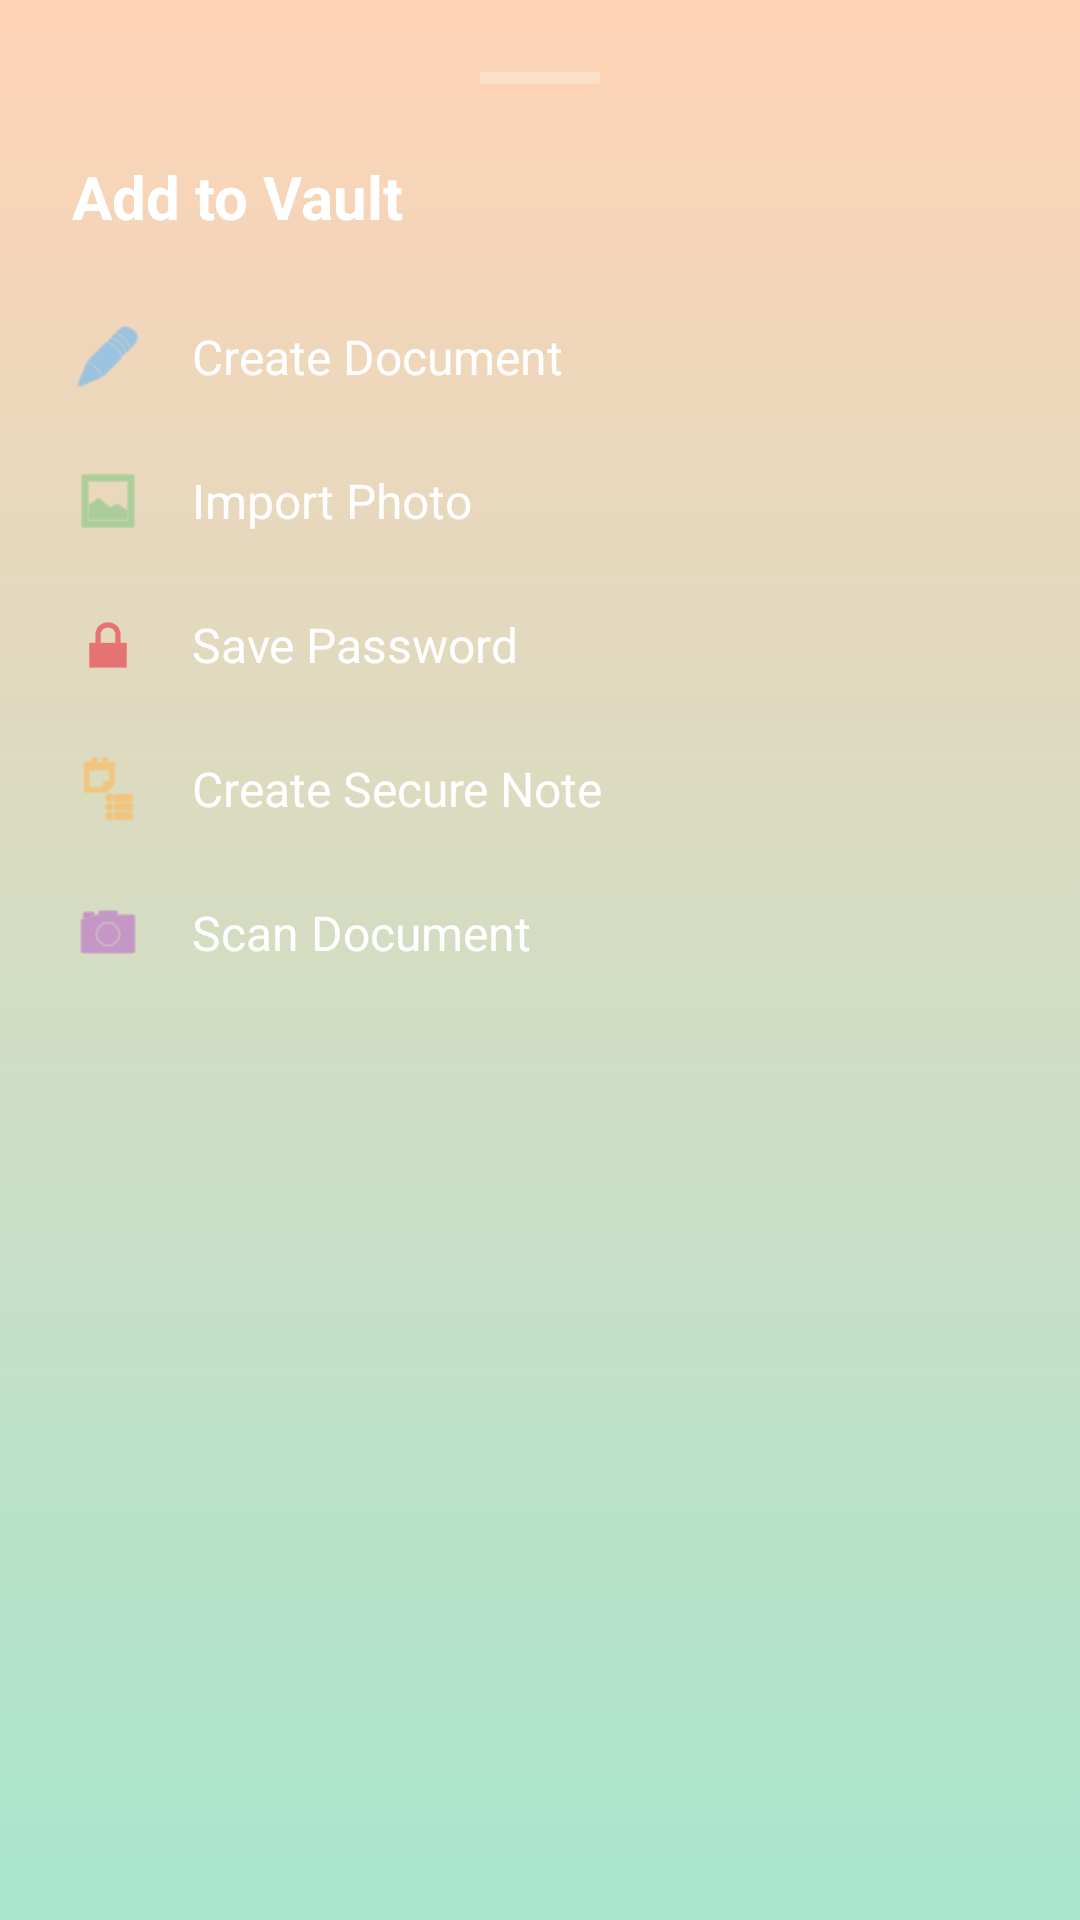

Locate icon controls on the screen. Image size 1080×1920, boxes as [x1=x1, y1=y1, x2=x2, y2=y2].
agenda: [x1=83, y1=757, x2=133, y2=820]
camera: [x1=80, y1=910, x2=136, y2=954]
edit: [x1=77, y1=326, x2=138, y2=387]
gallery: [x1=81, y1=474, x2=135, y2=528]
lock: [x1=89, y1=622, x2=127, y2=668]
